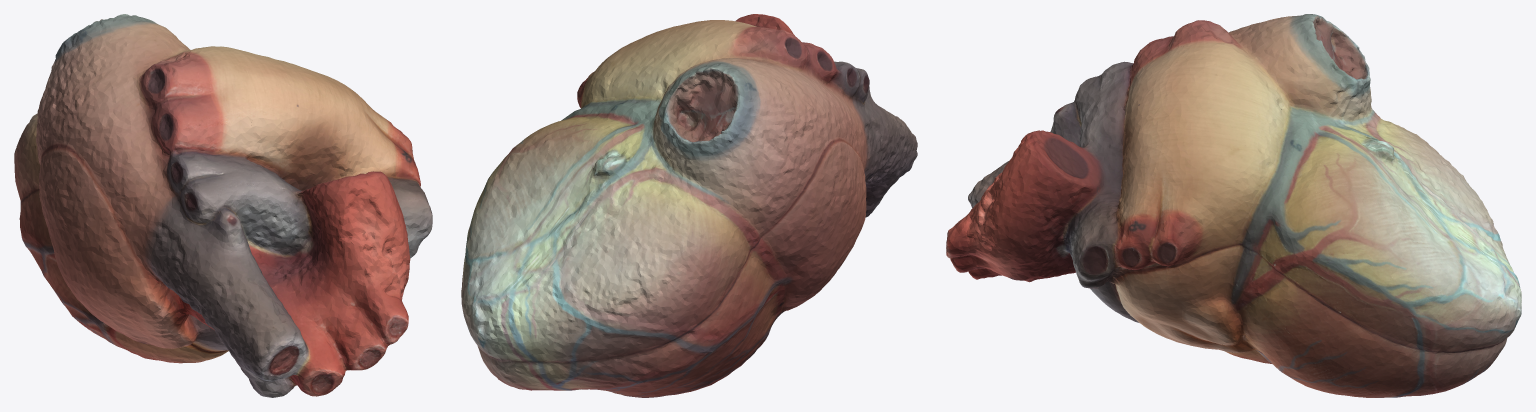
Rendered from heart1.obj.
3 renders of one model, left to right at view 1: azimuth 30°, elevation 25°; view 2: azimuth 150°, elevation 25°; view 3: azimuth 270°, elevation 25°, orthographic. The views are drawn at different scales.
Bounding box in the file's own units: 2.92 × 2.94 × 4.79.
1 material, 1 textured.
